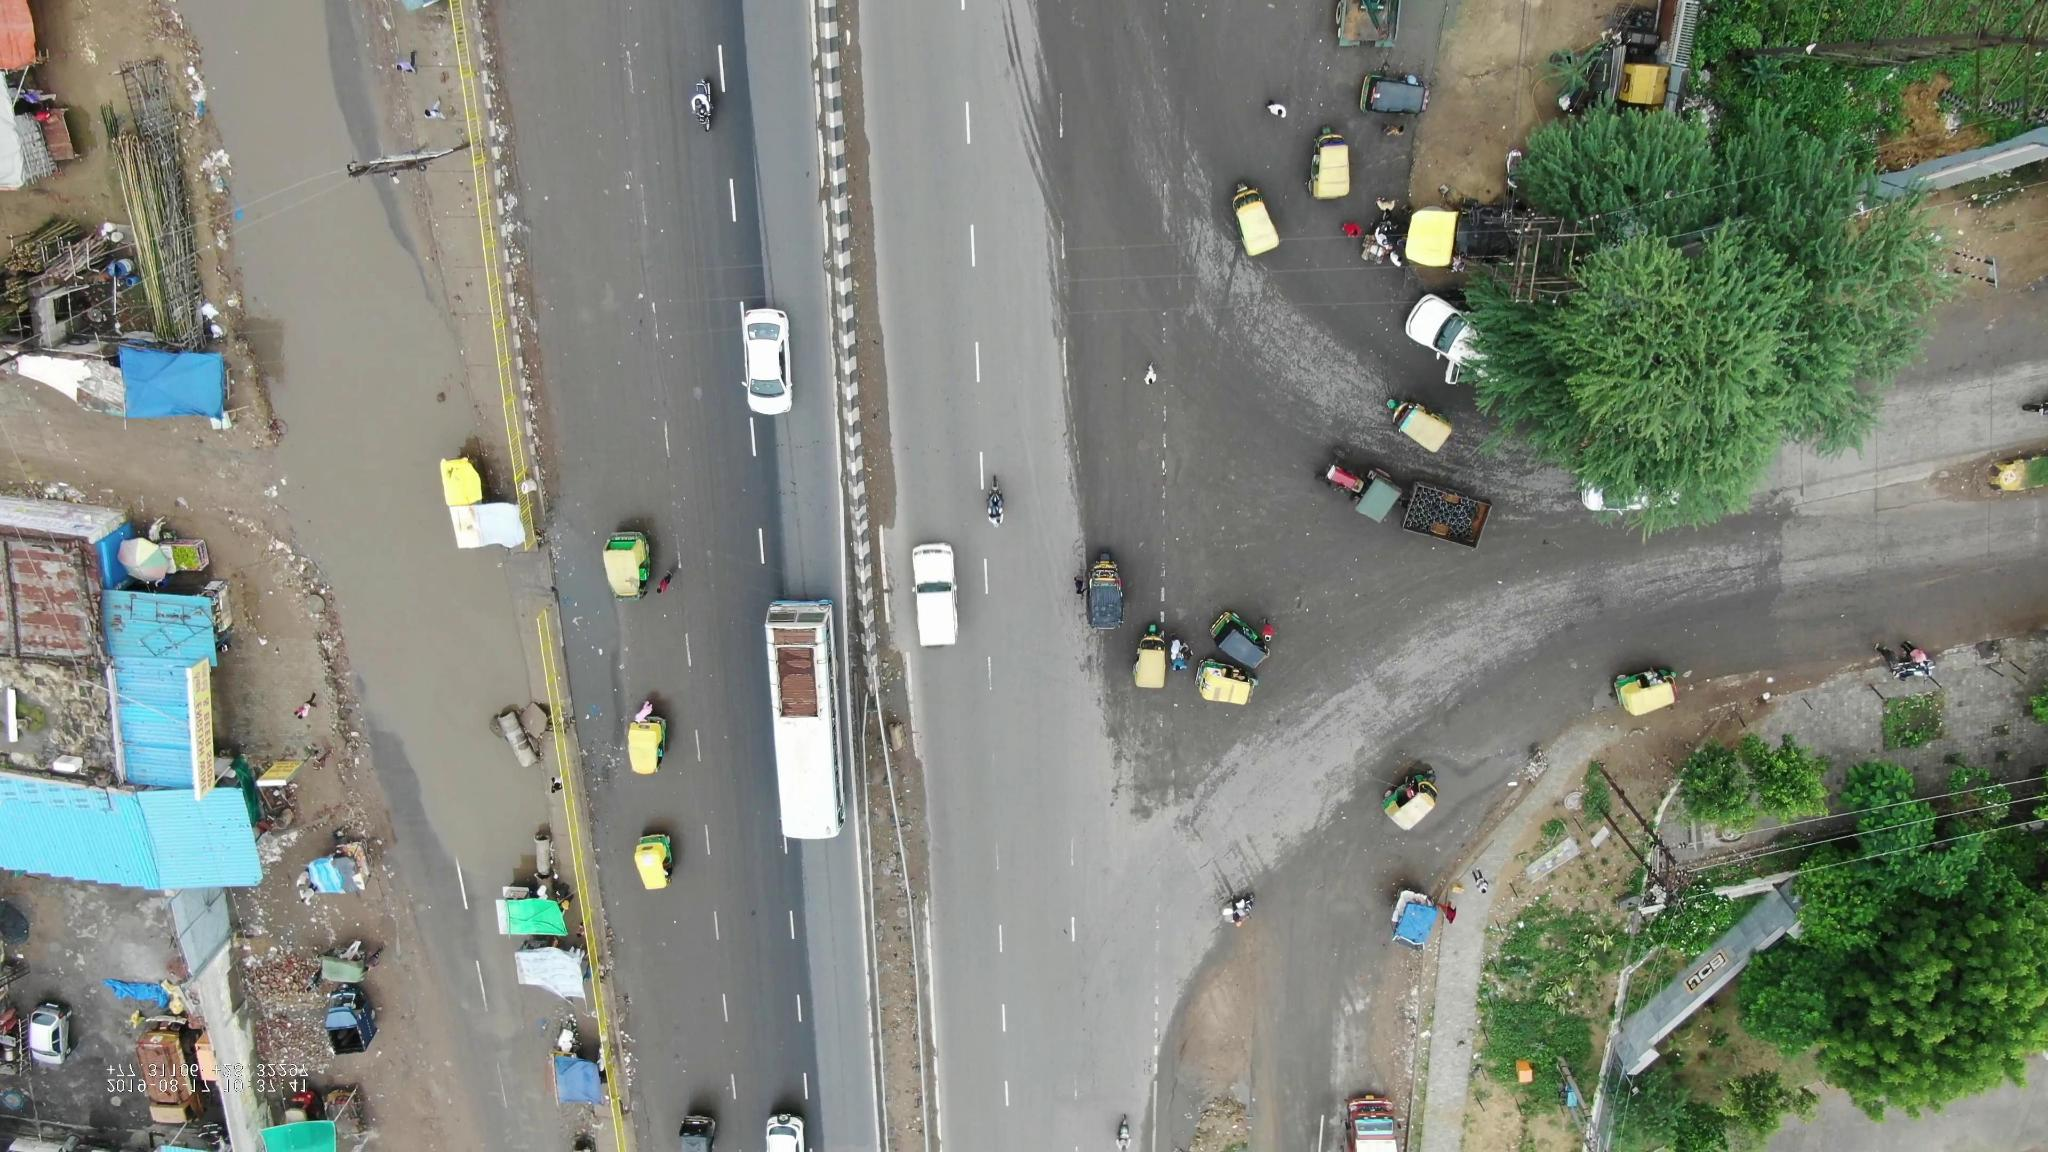Potholes: (468, 1001, 561, 1151)
Waterlogging: (260, 340, 513, 639), (173, 10, 397, 318), (369, 646, 578, 937)
